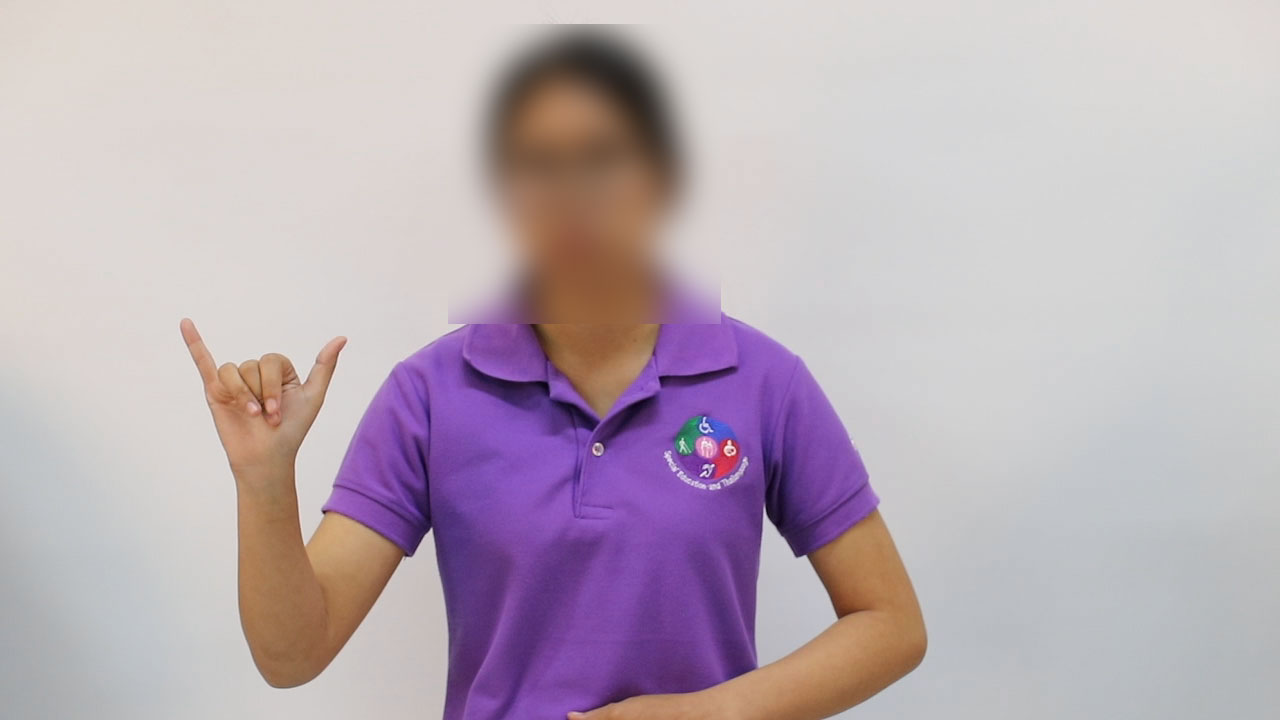yor: (165, 305, 352, 480)
